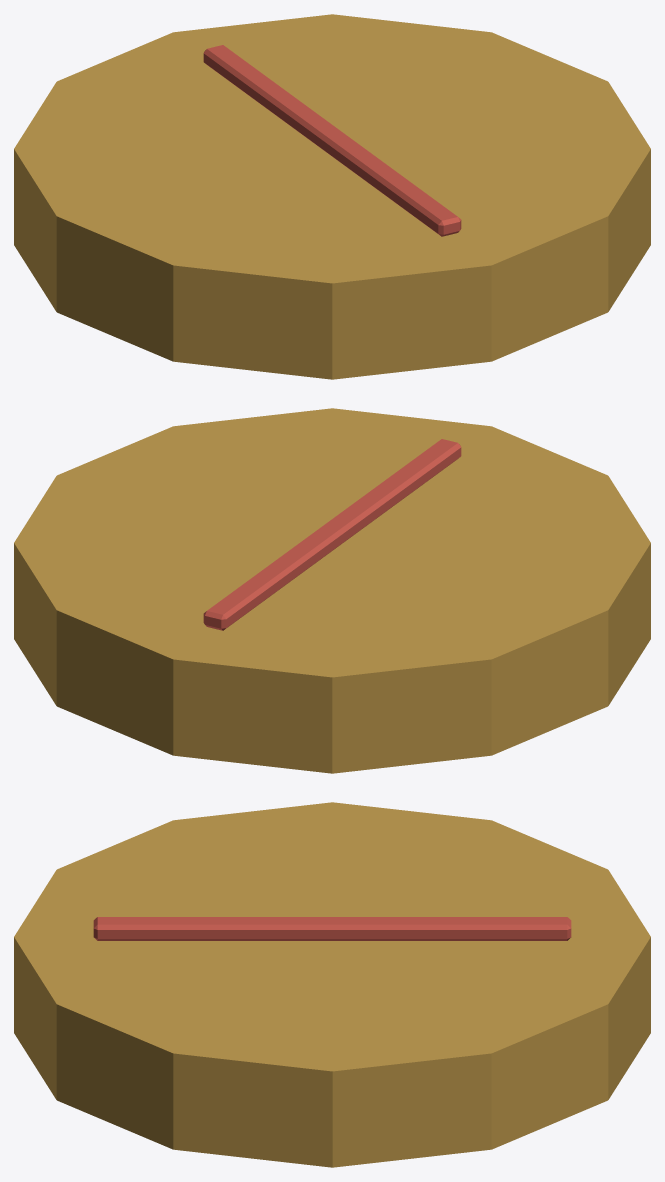
Rendered from equipment-compass.lod0.glb.
The picture shows the model from 3 angles, top to bottom: view 1: azimuth 30°, elevation 25°; view 2: azimuth 150°, elevation 25°; view 3: azimuth 270°, elevation 25°; orthographic projection.
Visible parts, largest first — view 1: equipment-compass__body; view 2: equipment-compass__body; view 3: equipment-compass__body.
Boxes of the visible parts, bbox=[...] form: equipment-compass__body: bbox=[14, 14, 650, 379]; equipment-compass__body: bbox=[14, 408, 650, 773]; equipment-compass__body: bbox=[14, 802, 650, 1167].
Bounding box in the file's own units: 0.36 × 0.07 × 0.36.
